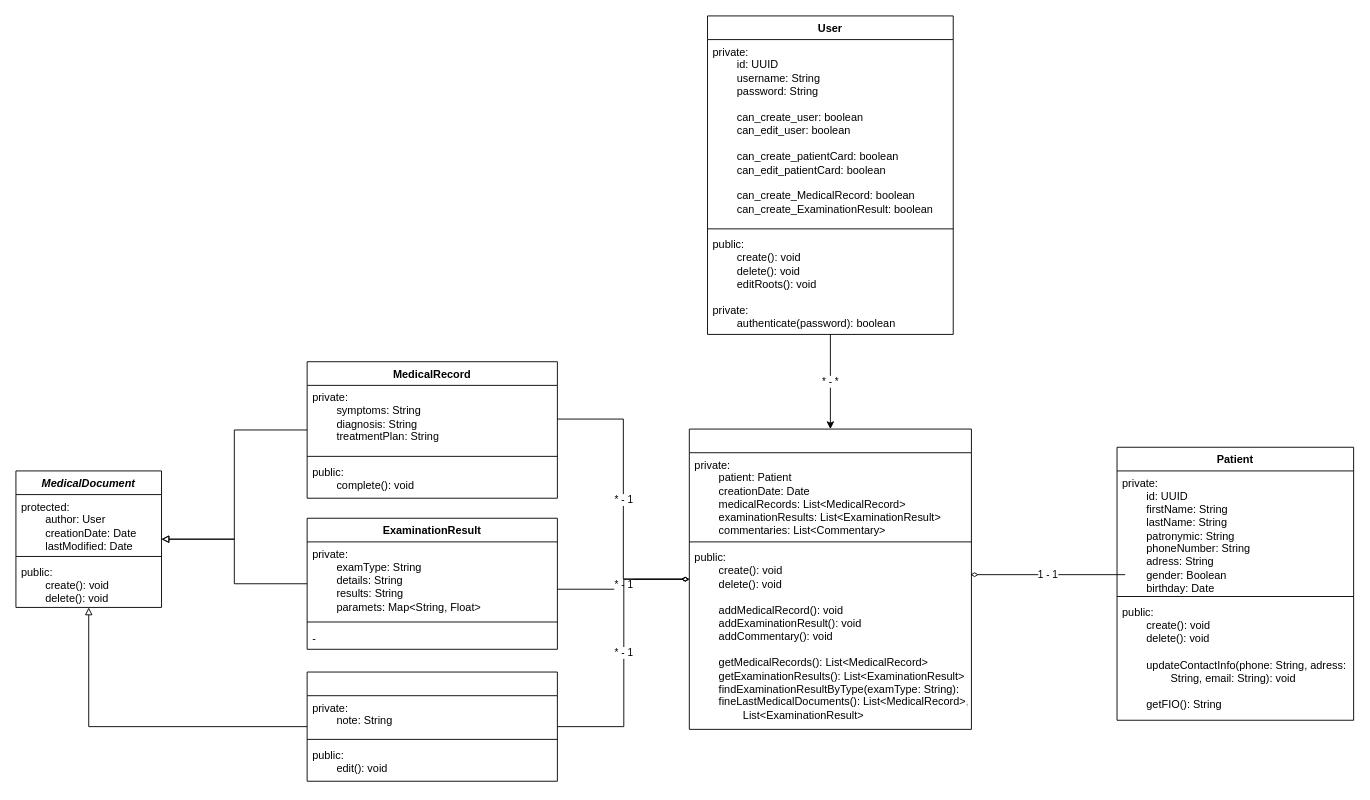
The diagram is 1370 pixels wide and 800 high, and some of its shapes have lost their labels. Each missing label, with the box of its shape:
Commentary: (306, 671, 557, 781)
PatientCard: (688, 428, 971, 729)
